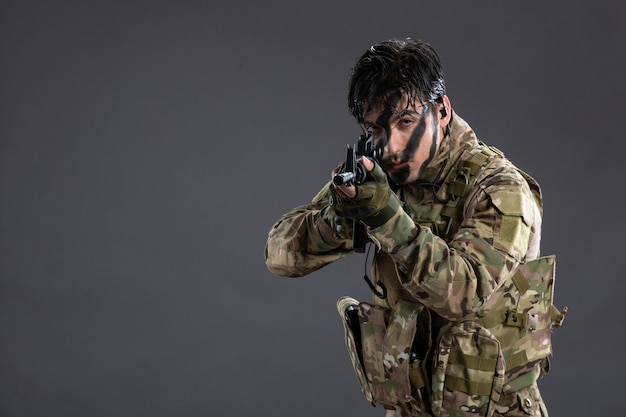gun: (331, 134, 383, 251)
